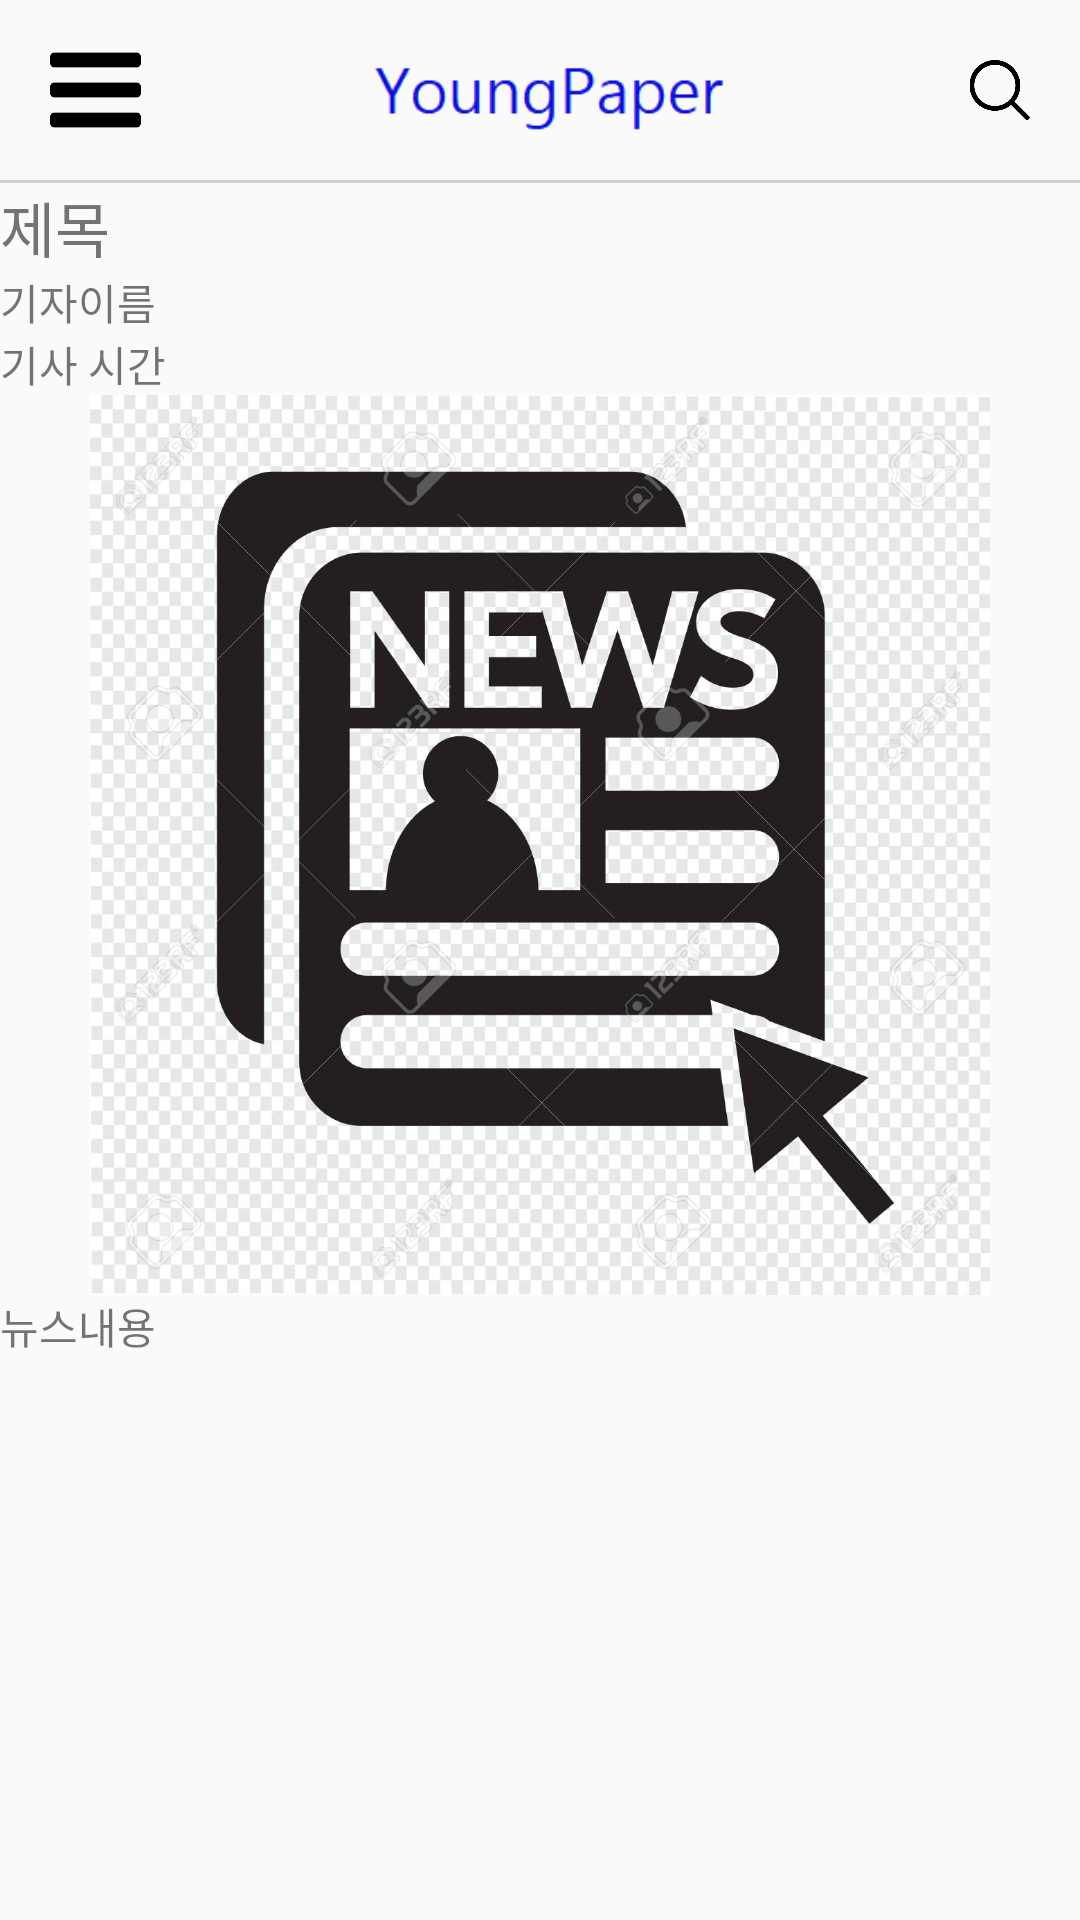

Locate icon controls on the screen. Image size 1080w x 1920h, boxes as box=[x1, y1, x2, y2].
menu: box=[50, 52, 141, 128]
search: box=[970, 60, 1030, 120]
